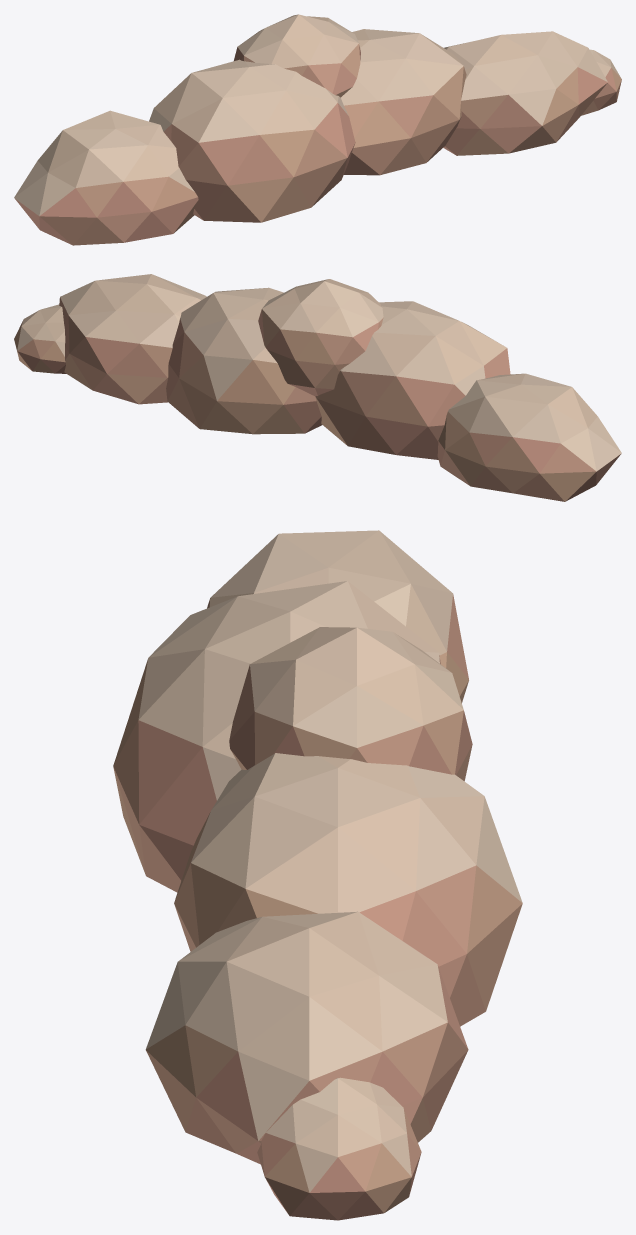
The model's file is cloud_c.glb.
The picture shows the model from 3 angles, top to bottom: view 1: azimuth 30°, elevation 25°; view 2: azimuth 150°, elevation 25°; view 3: azimuth 270°, elevation 25°; orthographic projection. The views are drawn at different scales.
Visible parts, largest first — view 1: cloud_c; view 2: cloud_c; view 3: cloud_c.
Part boxes in pixels (x1,y1,x2,y2): cloud_c: (14,14,621,245); cloud_c: (14,274,621,501); cloud_c: (113,530,522,1220).
Size of the model in its own units: 14.27 by 3.45 by 4.31.
